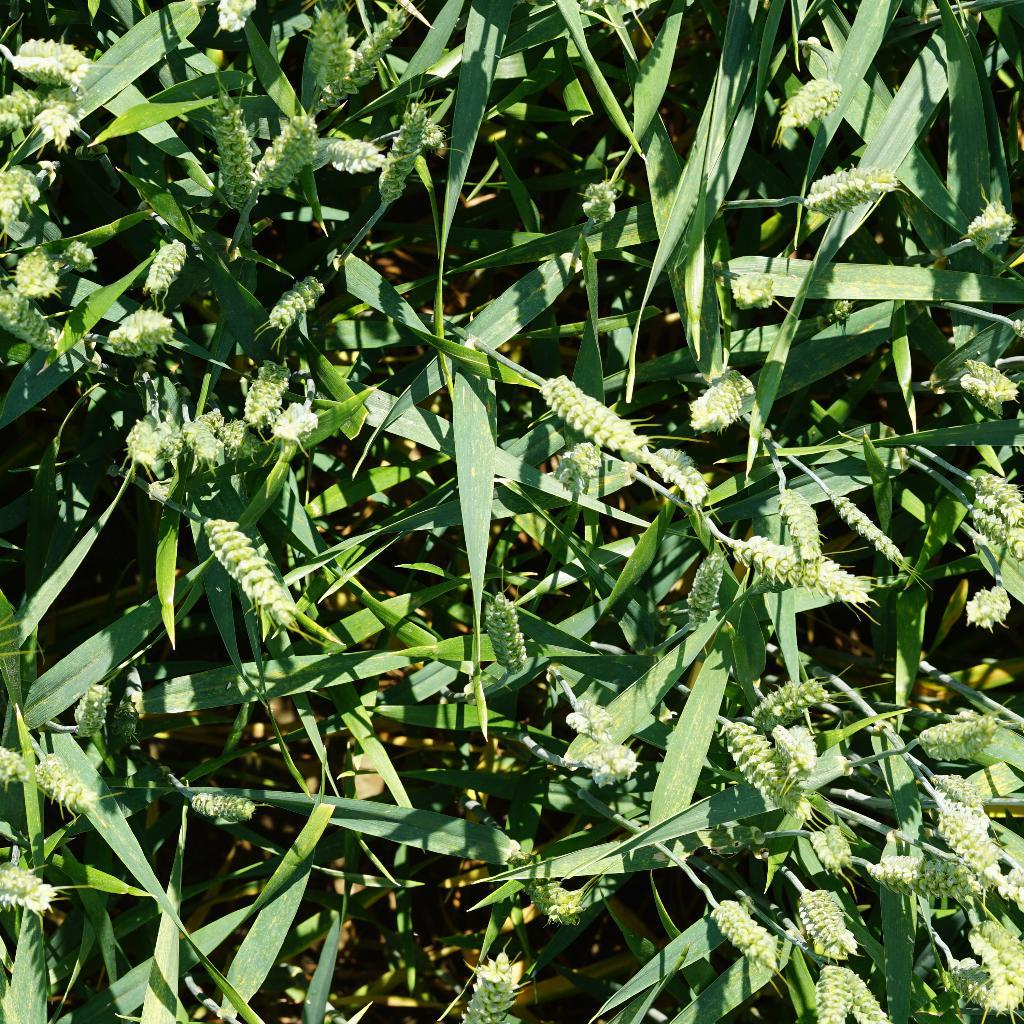0-0: (729, 522, 877, 620), (516, 366, 661, 464), (201, 507, 306, 632), (327, 1, 416, 105), (828, 484, 925, 574), (915, 772, 1005, 867), (372, 98, 445, 215), (200, 78, 264, 208), (957, 894, 1024, 1013), (677, 359, 792, 426), (740, 657, 848, 728), (900, 687, 1008, 758), (714, 717, 792, 803), (261, 258, 350, 333), (699, 889, 776, 974), (956, 459, 1024, 550), (247, 105, 320, 189), (85, 298, 182, 361), (564, 722, 654, 789), (459, 944, 534, 1024), (37, 744, 114, 821), (769, 70, 852, 141), (800, 877, 866, 964), (675, 541, 736, 635), (0, 290, 81, 359), (635, 440, 720, 504), (942, 564, 1023, 631), (774, 478, 833, 567), (2, 37, 94, 91), (271, 391, 344, 458), (533, 429, 606, 496), (795, 168, 901, 213), (63, 665, 124, 743), (0, 856, 73, 920), (240, 346, 298, 426), (954, 352, 1022, 420), (123, 231, 198, 292), (317, 116, 381, 187), (118, 410, 183, 478), (523, 862, 587, 930), (489, 582, 537, 671), (189, 778, 266, 830), (7, 232, 66, 298), (301, 11, 356, 81), (187, 408, 243, 474), (941, 759, 1004, 814), (808, 952, 855, 1024), (963, 198, 1020, 257), (0, 158, 46, 230), (25, 93, 92, 142), (849, 970, 907, 1024), (578, 163, 628, 225), (0, 65, 41, 136), (735, 256, 780, 317), (59, 230, 111, 281), (556, 695, 619, 737)
